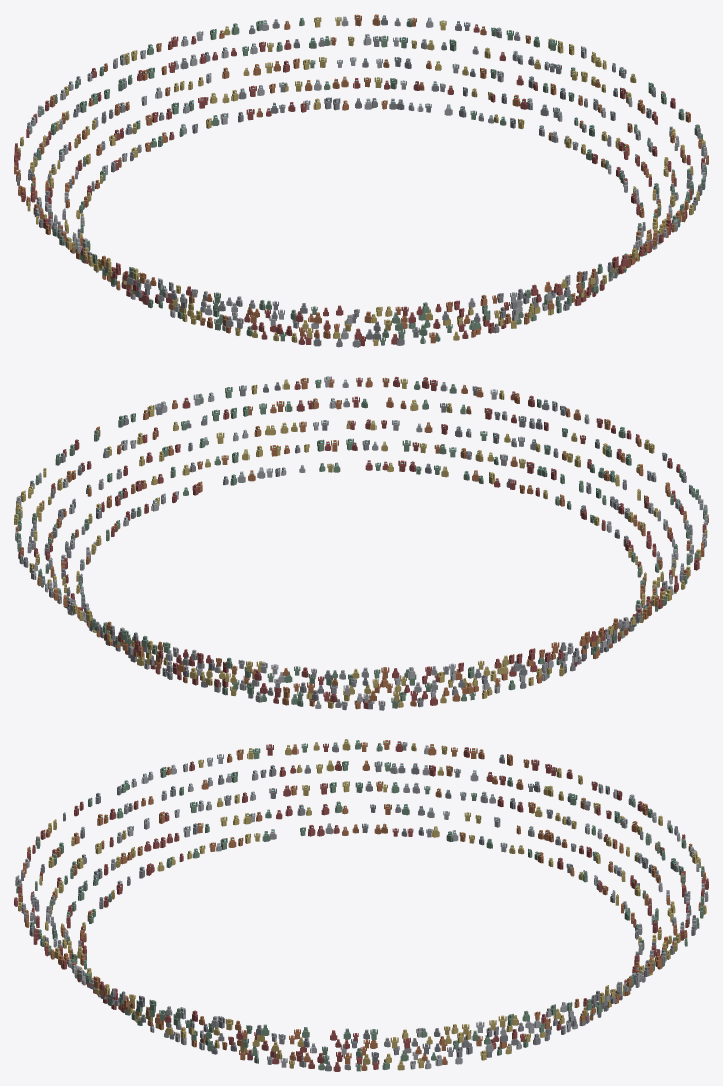
Rendered from crowd_tiers.glb.
3 renders of one model, top to bottom at view 1: azimuth 30°, elevation 25°; view 2: azimuth 150°, elevation 25°; view 3: azimuth 270°, elevation 25°, orthographic.
Visible parts, largest first — view 1: CrowdGroup_18, CrowdGroup_19, CrowdGroup_20, CrowdGroup_17, CrowdGroup_22, CrowdGroup_07, CrowdGroup_09, CrowdGroup_16, CrowdGroup_21, CrowdGroup_08, CrowdGroup_06, CrowdGroup_10 (+12 smaller); view 2: CrowdGroup_05, CrowdGroup_02, CrowdGroup_03, CrowdGroup_04, CrowdGroup_15, CrowdGroup_16, CrowdGroup_17, CrowdGroup_01, CrowdGroup_06, CrowdGroup_14, CrowdGroup_18, CrowdGroup_07 (+12 smaller); view 3: CrowdGroup_12, CrowdGroup_10, CrowdGroup_11, CrowdGroup_14, CrowdGroup_22, CrowdGroup_09, CrowdGroup_13, CrowdGroup_01, CrowdGroup_23, CrowdGroup_15, CrowdGroup_00, CrowdGroup_08 (+12 smaller).
Boxes of the visible parts, x1,y1,x2,y2 form: CrowdGroup_18: (191,20,286,124); CrowdGroup_19: (272,14,361,112); CrowdGroup_20: (362,14,446,112); CrowdGroup_17: (120,36,219,143); CrowdGroup_22: (500,36,601,142); CrowdGroup_07: (359,301,452,346); CrowdGroup_09: (192,289,286,341); CrowdGroup_16: (64,58,162,167); CrowdGroup_21: (440,21,530,123); CrowdGroup_08: (272,301,361,347); CrowdGroup_06: (435,288,531,341); CrowdGroup_10: (115,262,221,330); CrowdGroup_05: (434,384,534,487); CrowdGroup_02: (193,384,286,485); CrowdGroup_03: (274,376,362,472); CrowdGroup_04: (361,376,447,474); CrowdGroup_15: (361,666,449,710); CrowdGroup_16: (271,664,363,710); CrowdGroup_17: (191,649,288,705); CrowdGroup_01: (118,397,210,504); CrowdGroup_06: (506,399,602,505); CrowdGroup_14: (430,648,535,705); CrowdGroup_18: (119,627,221,692); CrowdGroup_07: (559,419,654,530); CrowdGroup_12: (360,740,447,837); CrowdGroup_10: (189,744,282,849); CrowdGroup_11: (279,739,362,836); CrowdGroup_14: (500,759,603,869); CrowdGroup_22: (435,1011,529,1066); CrowdGroup_09: (121,763,221,867); CrowdGroup_13: (432,747,529,848); CrowdGroup_01: (192,1010,287,1067); CrowdGroup_23: (360,1026,450,1070); CrowdGroup_15: (566,785,656,892); CrowdGroup_00: (278,1027,362,1071); CrowdGroup_08: (63,785,164,890).
Bounding box in the file's own units: 79.44 × 8.47 × 79.64.
